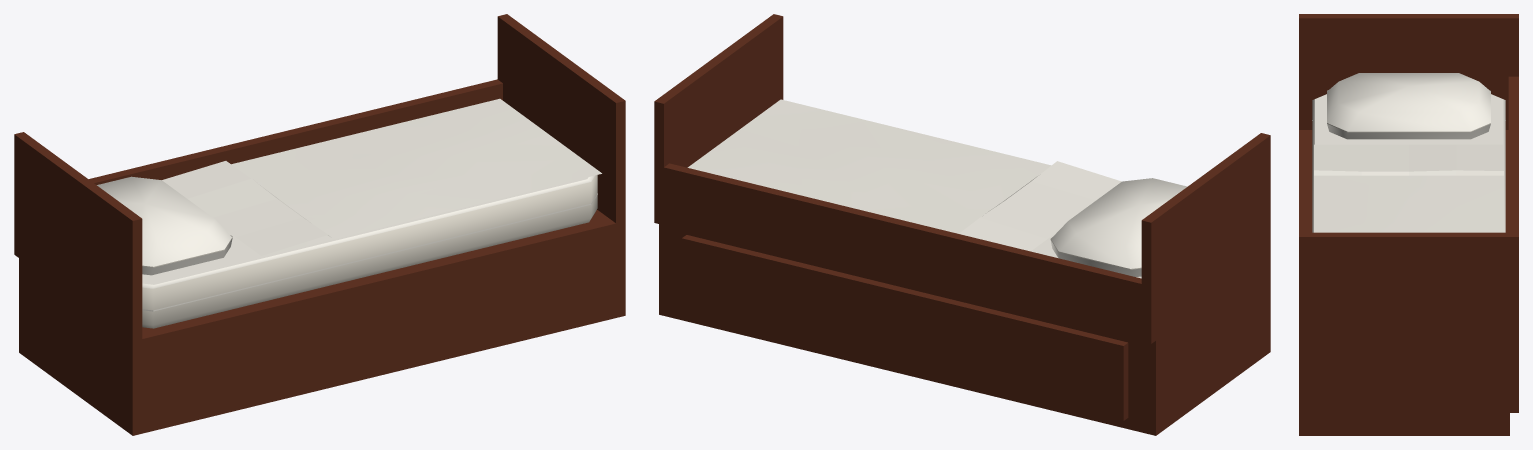
File: parametric-sized-berth-l180-1st.glb
3 views of the same model, side by side, from view 1: azimuth 30°, elevation 25°; view 2: azimuth 150°, elevation 25°; view 3: azimuth 270°, elevation 25° (orthographic). The views are drawn at different scales.
Parts seen in each view (by area): view 1: parametric-sized-berth-l180-1st; view 2: parametric-sized-berth-l180-1st; view 3: parametric-sized-berth-l180-1st.
Part boxes in pixels (x1,y1,x2,y2): parametric-sized-berth-l180-1st: (14, 14, 625, 435); parametric-sized-berth-l180-1st: (654, 14, 1270, 435); parametric-sized-berth-l180-1st: (1299, 14, 1518, 435).
Size of the model in its own units: 1.8 by 0.75 by 0.75.
